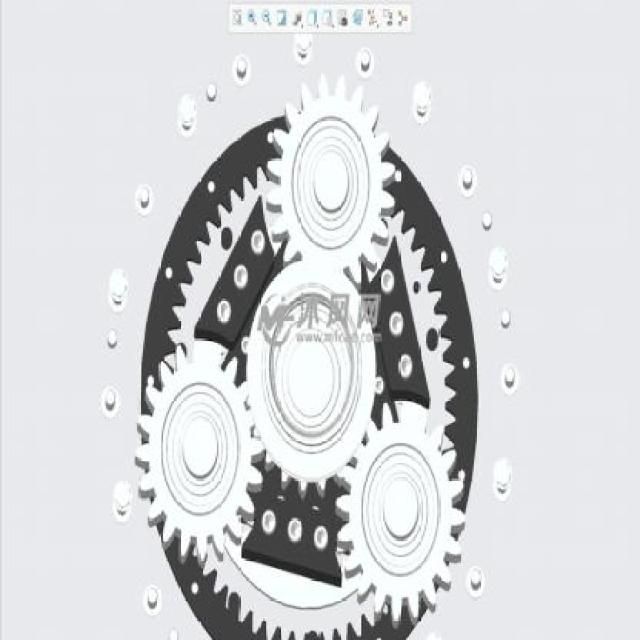Gear: (140, 110, 480, 640), (334, 399, 470, 627), (136, 343, 265, 567), (262, 74, 397, 286)
